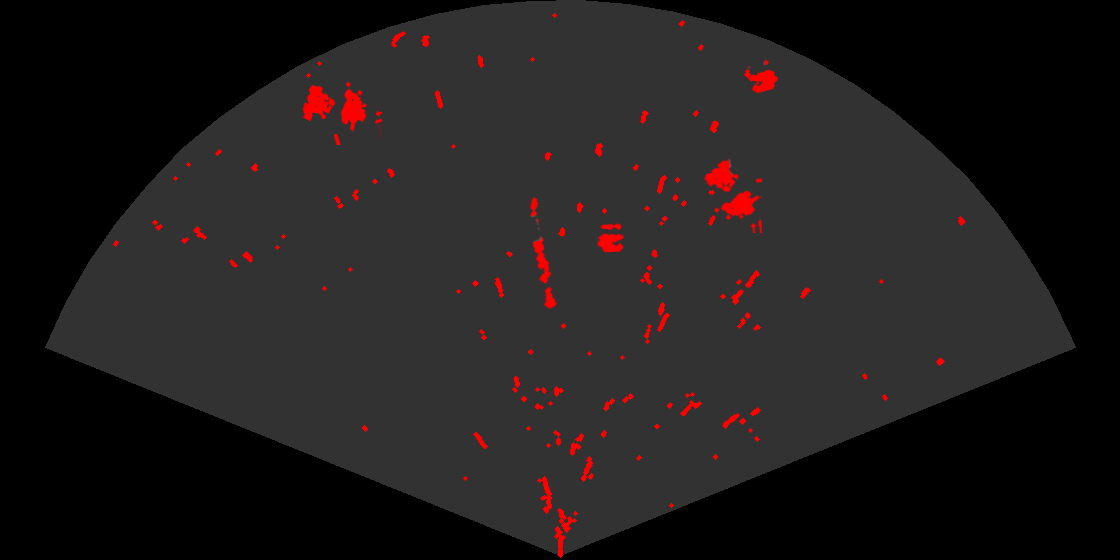ball: (746, 58, 780, 95), (595, 222, 626, 254)
cage: (301, 80, 382, 145), (703, 157, 762, 233)
chain: (528, 195, 558, 311)
